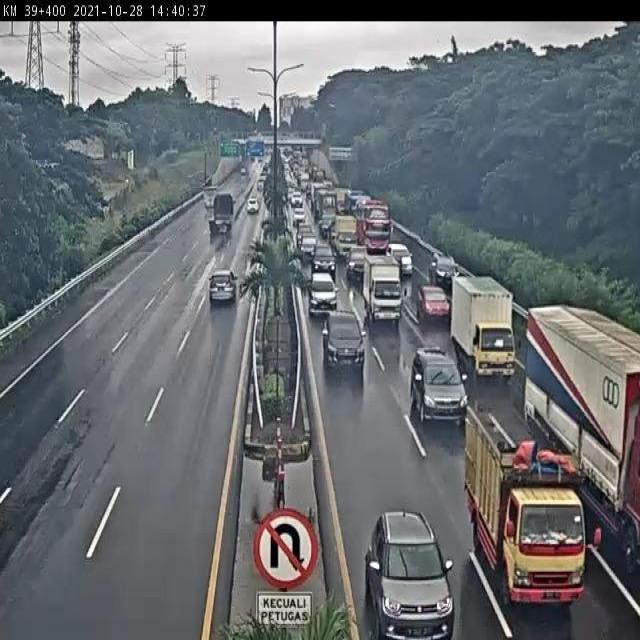big truck: (203, 196, 235, 249)
car: (370, 516, 453, 640), (409, 345, 470, 423), (323, 311, 366, 369), (306, 272, 339, 323), (416, 280, 451, 324), (428, 250, 459, 286), (385, 238, 414, 274), (208, 268, 240, 299)
truck-l-: (527, 304, 640, 549)
truck-m-: (465, 403, 586, 605), (451, 277, 515, 379)
truck-s-: (361, 252, 404, 325)
